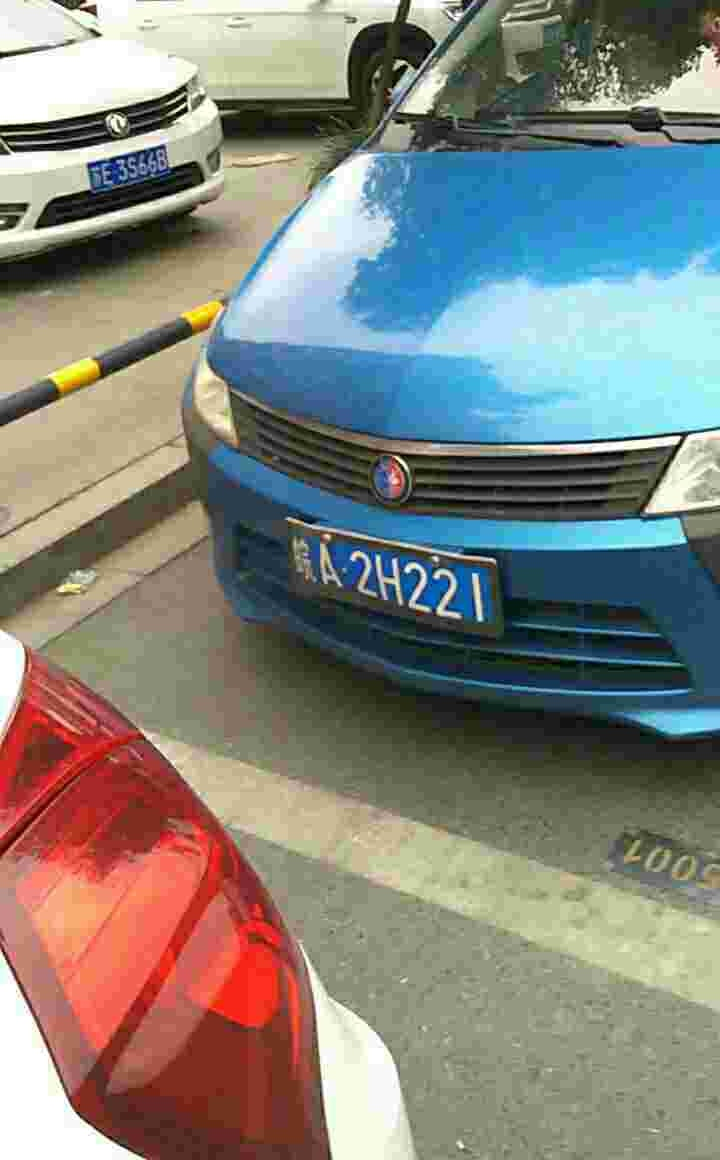car: (274, 515, 504, 629)
